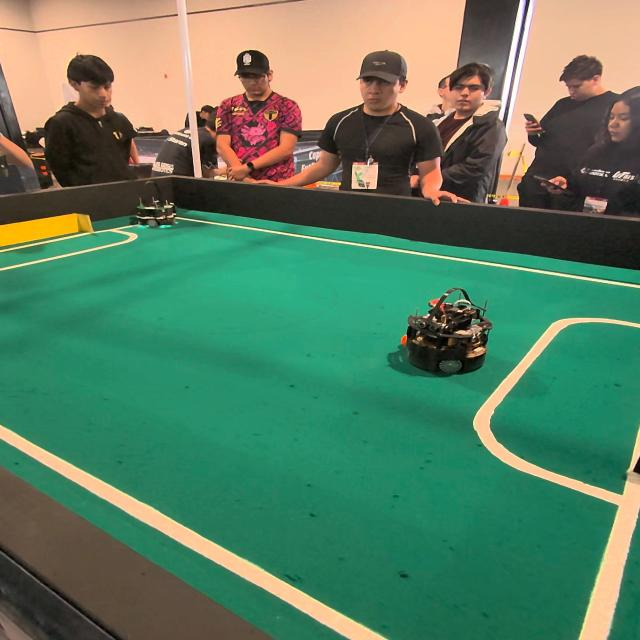Robot: (400, 286, 494, 382), (126, 178, 179, 240)
